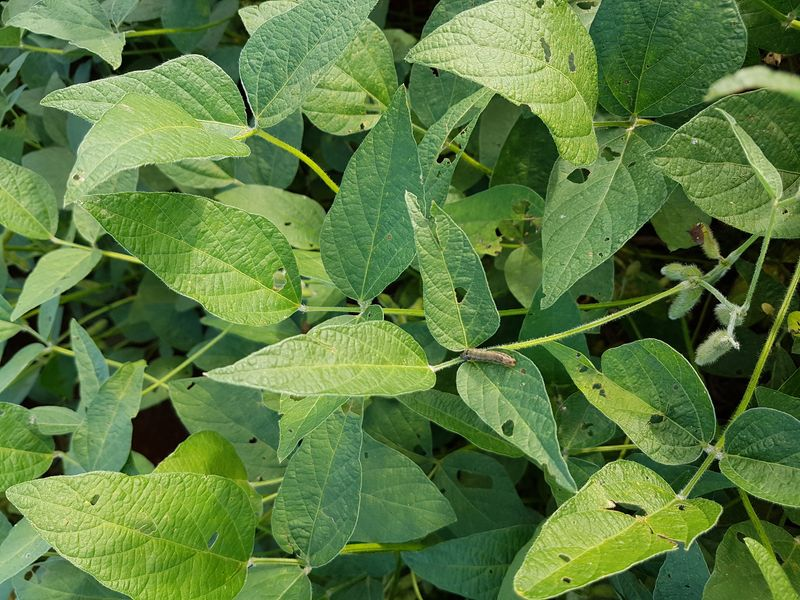Euschistus_heros_adulto: (682, 221, 710, 251)
Euschistus_heros_ninfa: (757, 297, 781, 322)
Spodoptera_albula: (454, 338, 522, 382)
